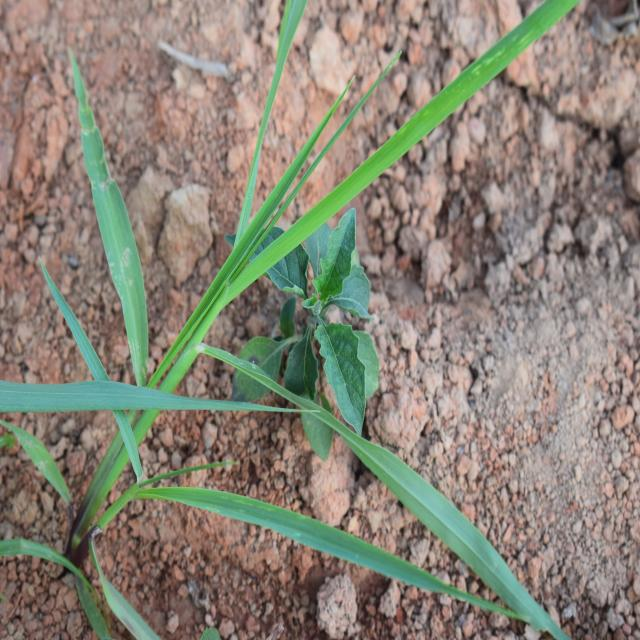Black_nightshade: (253, 216, 413, 434)
